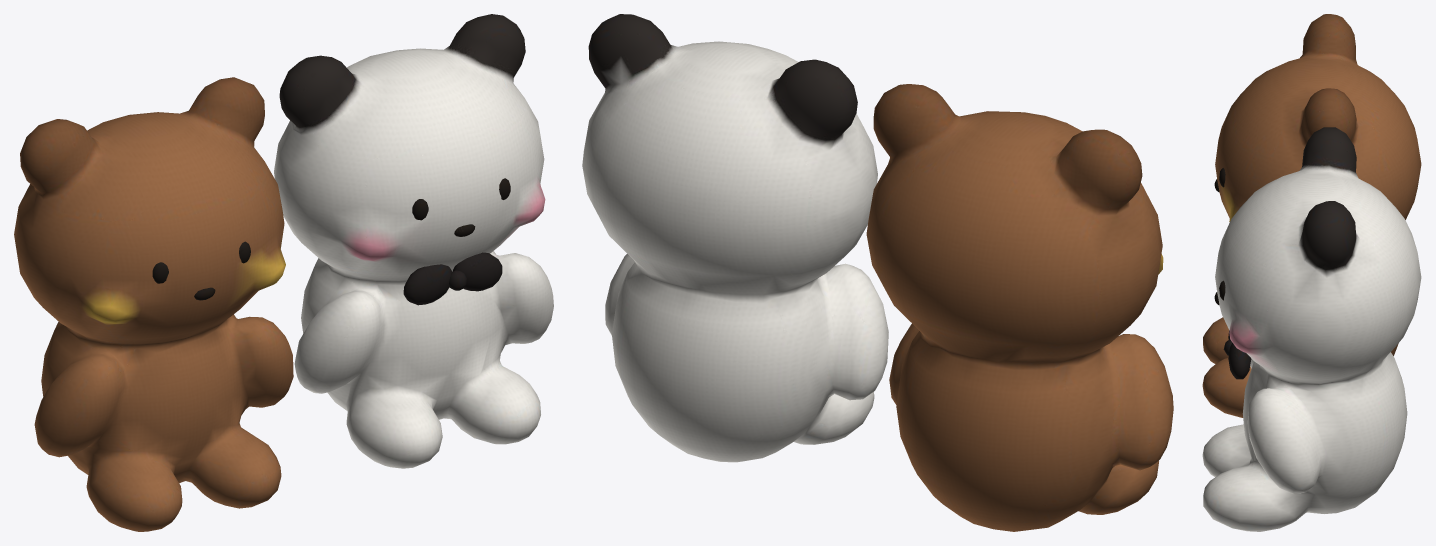
Rendered from keepsake-bubu-dudu.glb.
3 views of the same model, side by side, from view 1: azimuth 30°, elevation 25°; view 2: azimuth 150°, elevation 25°; view 3: azimuth 270°, elevation 25° (orthographic). The views are drawn at different scales.
Parts seen in each view (by area): view 1: keepsake-bubu-dudu; view 2: keepsake-bubu-dudu; view 3: keepsake-bubu-dudu.
Part boxes in pixels (box(x1,y1,x2,y2)): keepsake-bubu-dudu: box(14, 14, 553, 531); keepsake-bubu-dudu: box(582, 14, 1173, 531); keepsake-bubu-dudu: box(1202, 14, 1421, 531).
Bounding box in the file's own units: 0.224 × 0.16 × 0.0938.
1 material, 1 textured.
